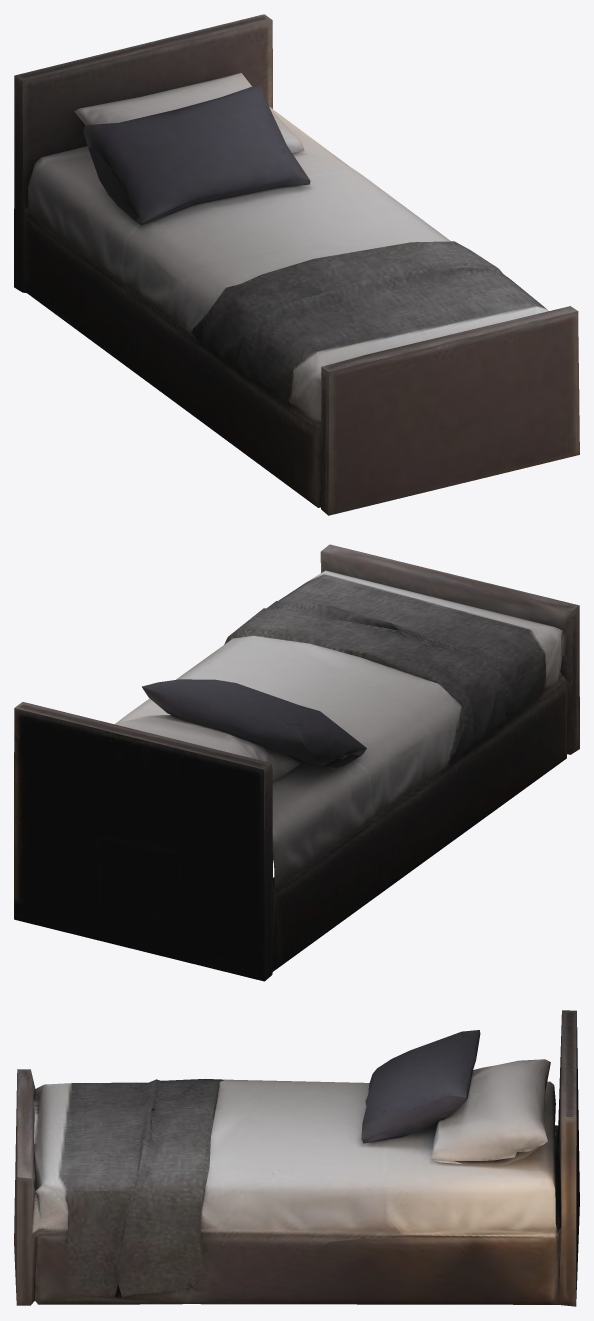
File: bed_1.glb
3 renders of one model, top to bottom at view 1: azimuth 30°, elevation 25°; view 2: azimuth 150°, elevation 25°; view 3: azimuth 270°, elevation 25°, orthographic. The views are drawn at different scales.
Parts seen in each view (by area): view 1: bed3; view 2: bed3; view 3: bed3.
Part boxes in pixels (<box>): bed3: <box>14,14,579,515</box>; bed3: <box>14,544,579,981</box>; bed3: <box>14,1010,579,1306</box>.
Size of what is drawn, in the model's own units: 1.11 by 0.8338 by 2.25.
Materials: 1 (1 with a texture image).
